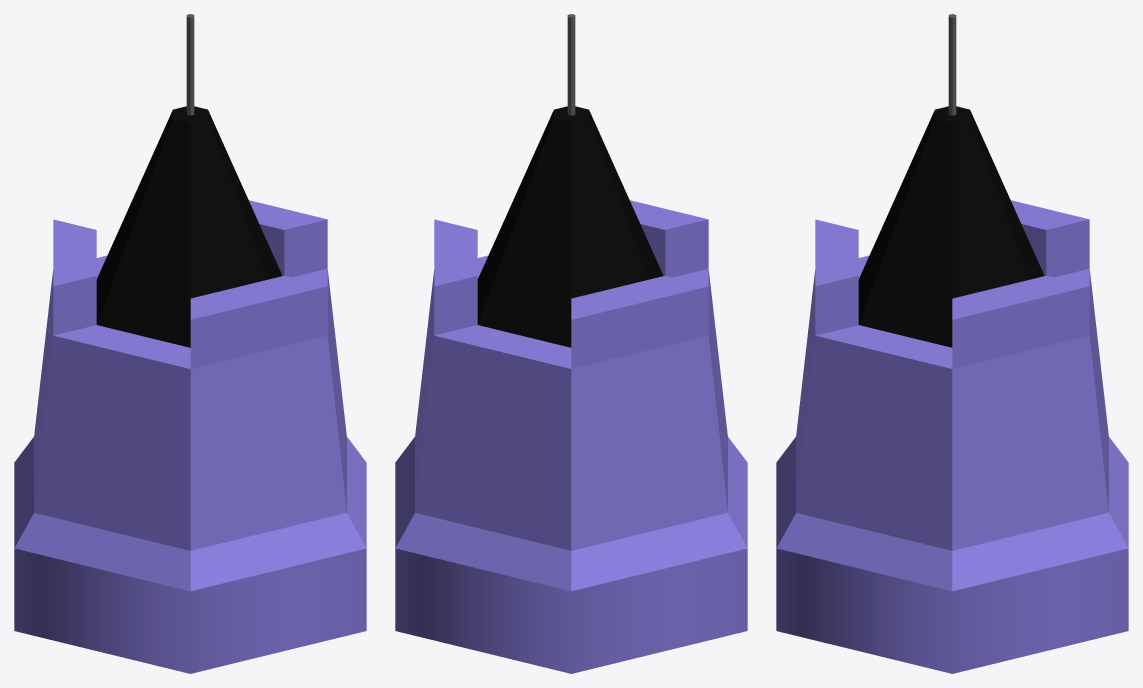
The model's file is Castle.fbx.
The picture shows the model from 3 angles, left to right: view 1: azimuth 30°, elevation 25°; view 2: azimuth 150°, elevation 25°; view 3: azimuth 270°, elevation 25°; orthographic projection.
Parts seen in each view (by area): view 1: Tower; view 2: Tower; view 3: Tower.
Part boxes in pixels (left/top/right/bottom): Tower: left=14, top=14, right=366, bottom=673; Tower: left=395, top=14, right=747, bottom=673; Tower: left=776, top=14, right=1128, bottom=673.
Bounding box in the file's own units: 20.67 × 32.1 × 17.9.
